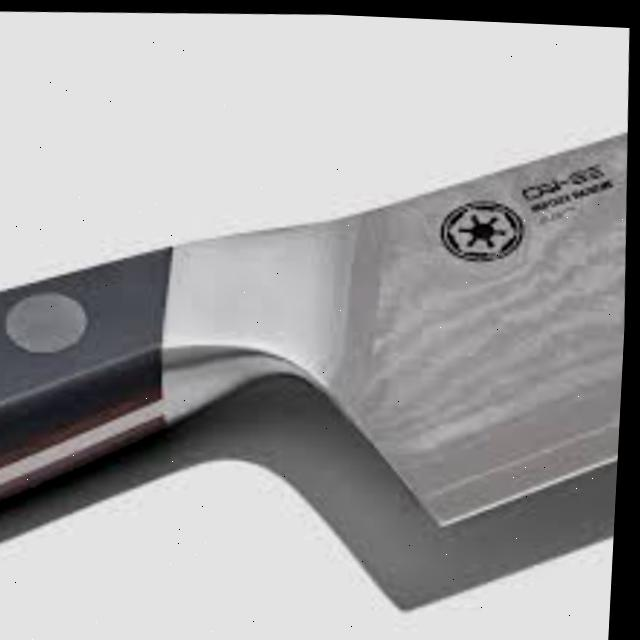Knife: (0, 55, 638, 626)
